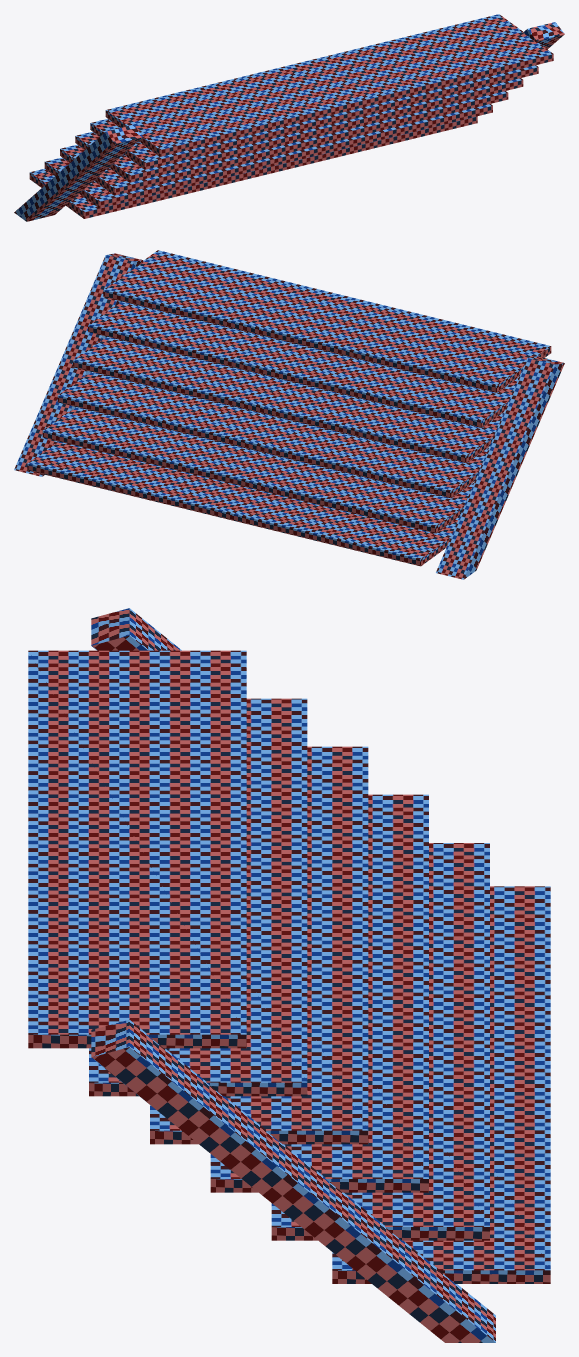
Rendered from Quart_stairs_01.fbx.
3 renders of one model, top to bottom at view 1: azimuth 30°, elevation 25°; view 2: azimuth 150°, elevation 25°; view 3: azimuth 270°, elevation 25°, orthographic. The views are drawn at different scales.
Visible parts, largest first — view 1: Quart_stairs_01; view 2: Quart_stairs_01; view 3: Quart_stairs_01.
Part boxes in pixels (x1,y1,x2,y2): Quart_stairs_01: (14,14,564,221); Quart_stairs_01: (14,250,564,579); Quart_stairs_01: (28,608,550,1342).
Bounding box in the file's own units: 400 × 126 × 201.
1 material, 1 textured.
